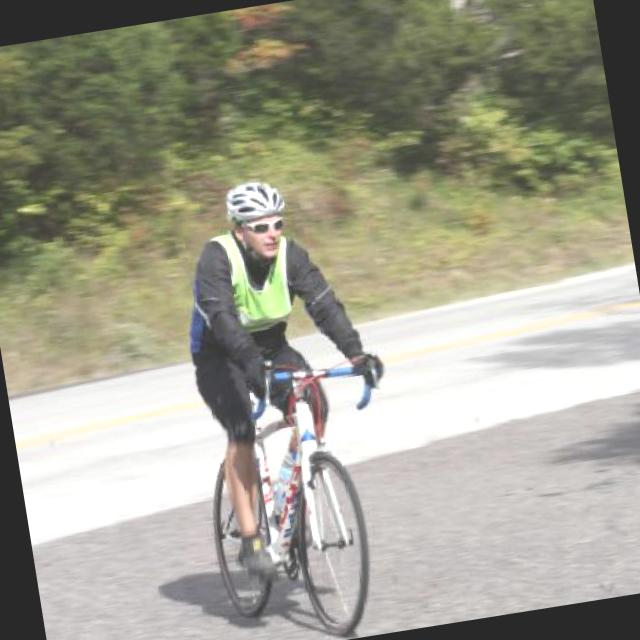Person: (160, 218, 393, 626)
